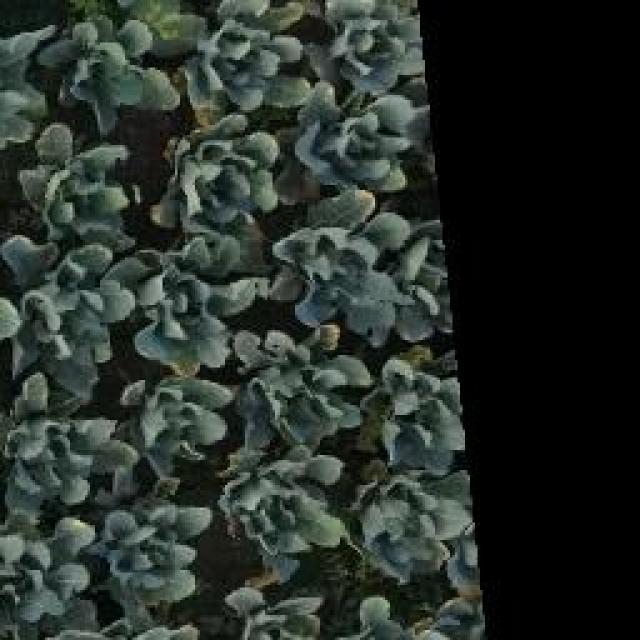cabbage: (1, 233, 134, 389), (275, 191, 403, 332), (233, 325, 370, 450), (126, 236, 254, 368), (45, 5, 178, 127), (182, 0, 318, 117), (3, 386, 131, 509), (158, 117, 282, 234), (219, 451, 346, 565), (296, 91, 423, 196), (354, 473, 469, 586), (15, 124, 134, 233), (99, 501, 215, 606), (120, 374, 232, 480), (0, 514, 96, 620), (376, 367, 463, 472), (327, 0, 424, 92)
